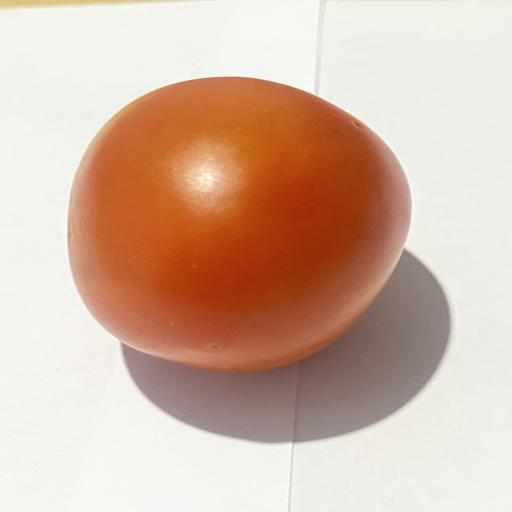ripe: (68, 77, 411, 371)
